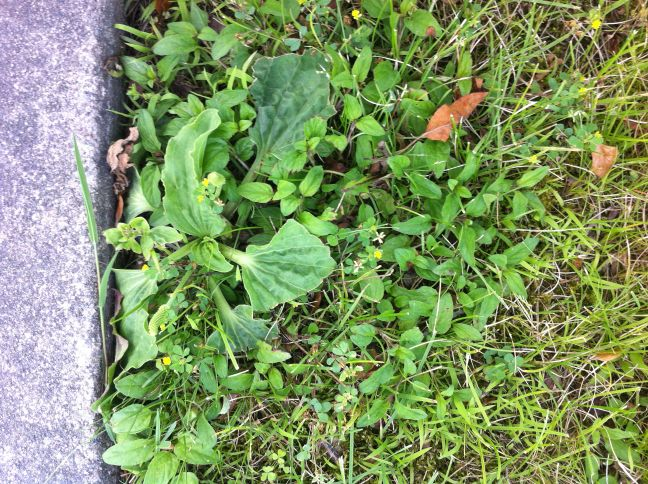weed1: (119, 50, 337, 370)
